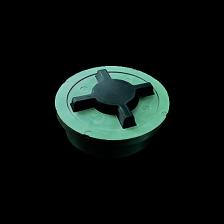PMN2: (50, 58, 168, 164)
